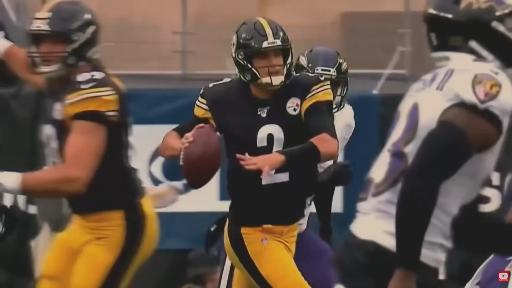Helmet: (424, 0, 512, 67), (28, 0, 99, 73), (232, 18, 292, 87), (293, 47, 348, 111)
Jersey: (351, 53, 511, 267), (194, 75, 333, 226), (52, 70, 143, 214), (465, 255, 511, 287), (334, 103, 355, 160)
Player: (338, 0, 511, 287), (159, 18, 337, 287), (0, 0, 158, 287), (294, 47, 354, 160), (452, 176, 511, 287), (294, 173, 347, 287), (453, 191, 511, 287), (0, 30, 63, 89)
